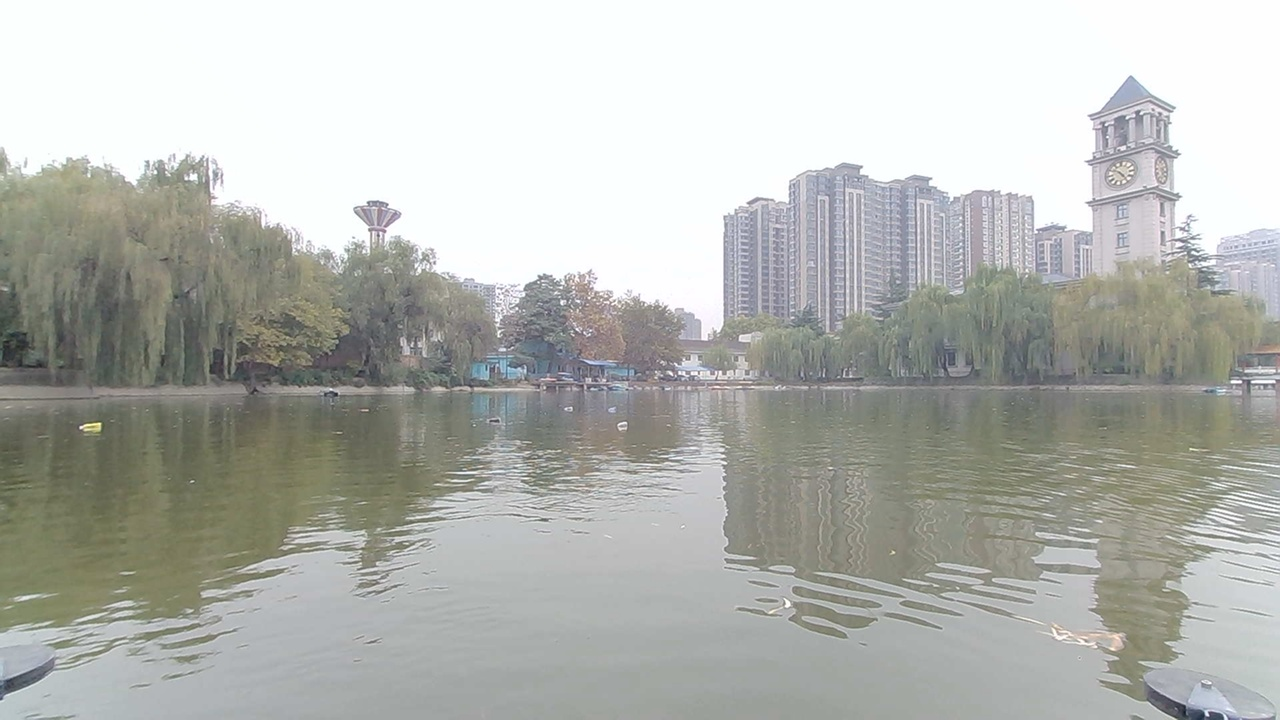bottle: (79, 416, 109, 440), (487, 405, 517, 427), (607, 416, 637, 437), (591, 401, 624, 418), (558, 399, 580, 418)
